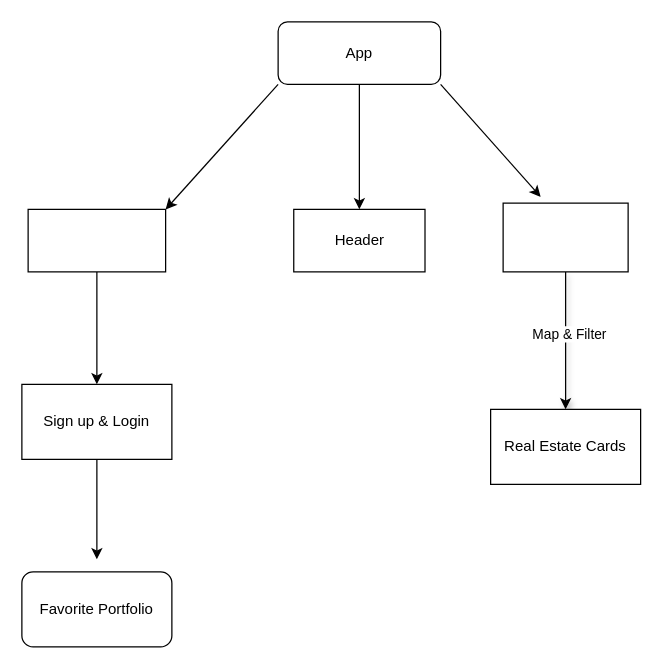
This 663x669 diagram has some shape labels left out. Each missing label, with the centre of its shape:
"Navbar" goes at [96,240].
"Real Estate Listings" goes at [565,237].
